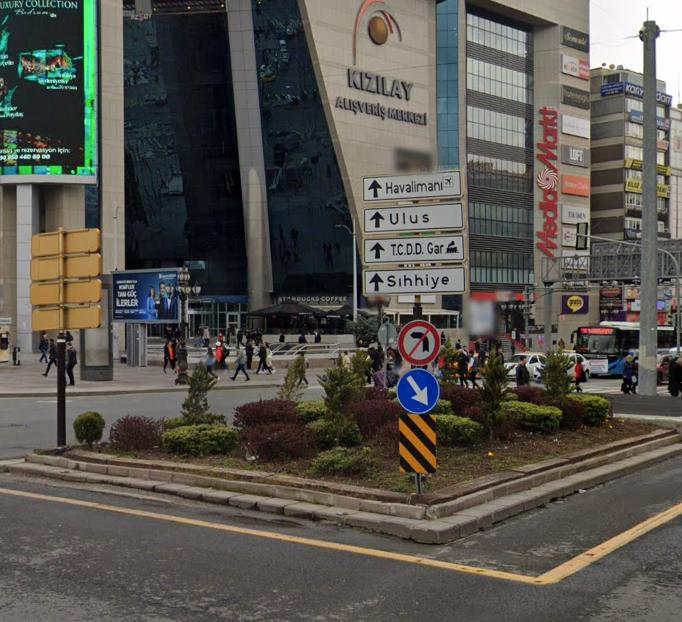leftturnsareforbidden: (399, 322, 440, 363)
